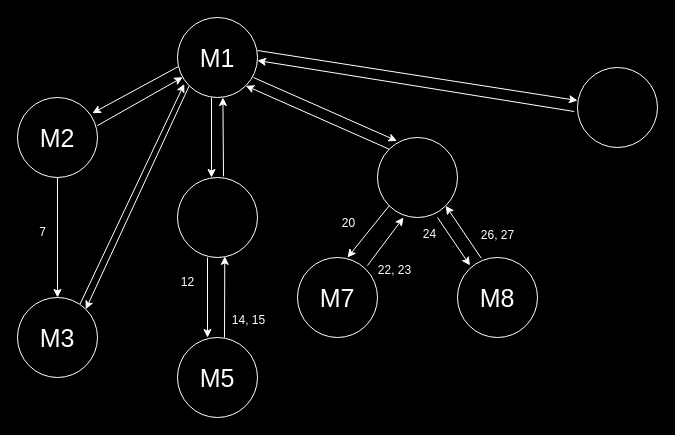
This 675x435 diagram has some shape labels left out. The centre of each missing label's shape, as x and y in pixels:
"М4" goes at (217,217).
"М6" goes at (417,177).
"М9" goes at (617,107).
